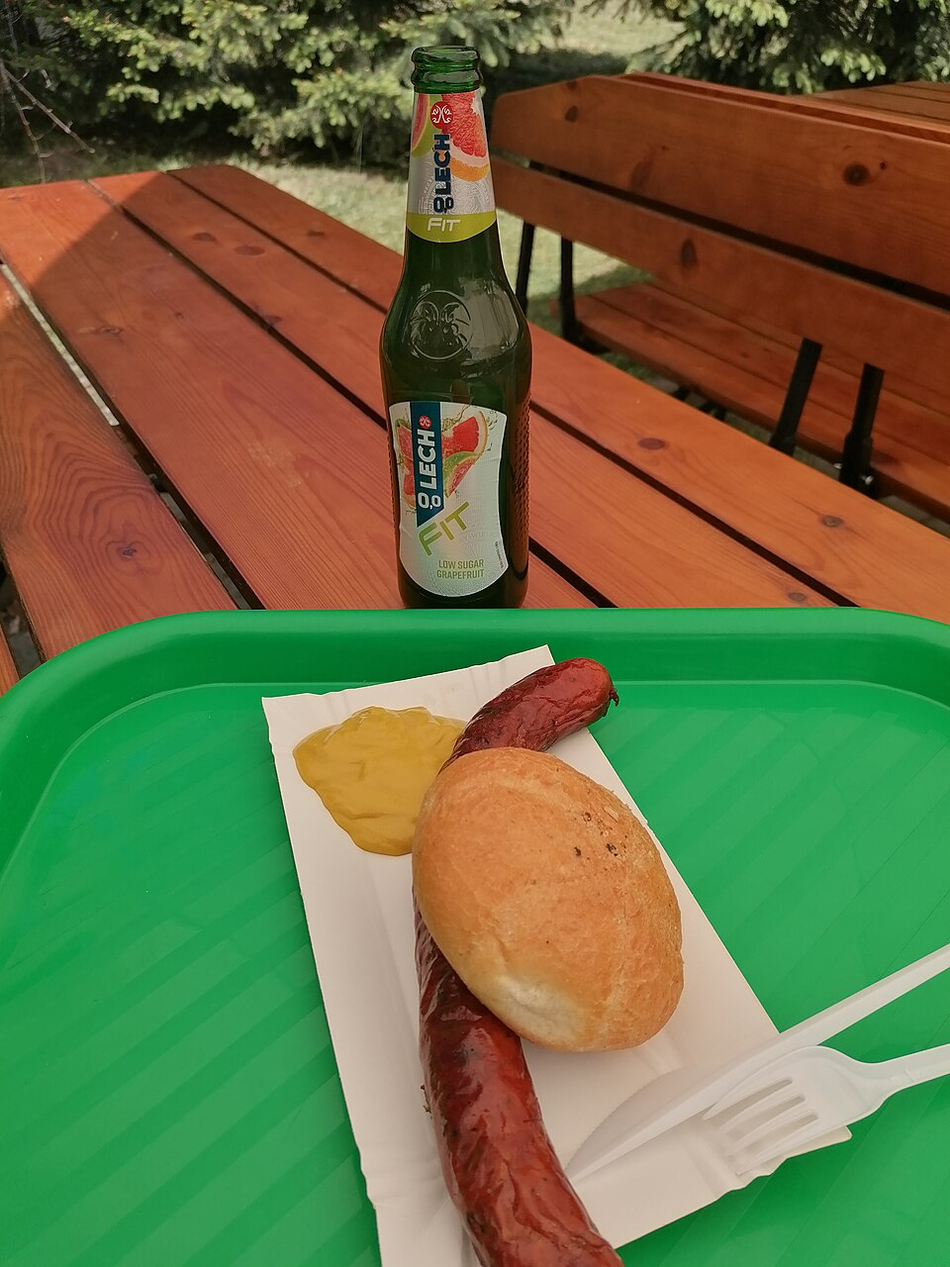beer-bottle: (374, 31, 533, 623)
